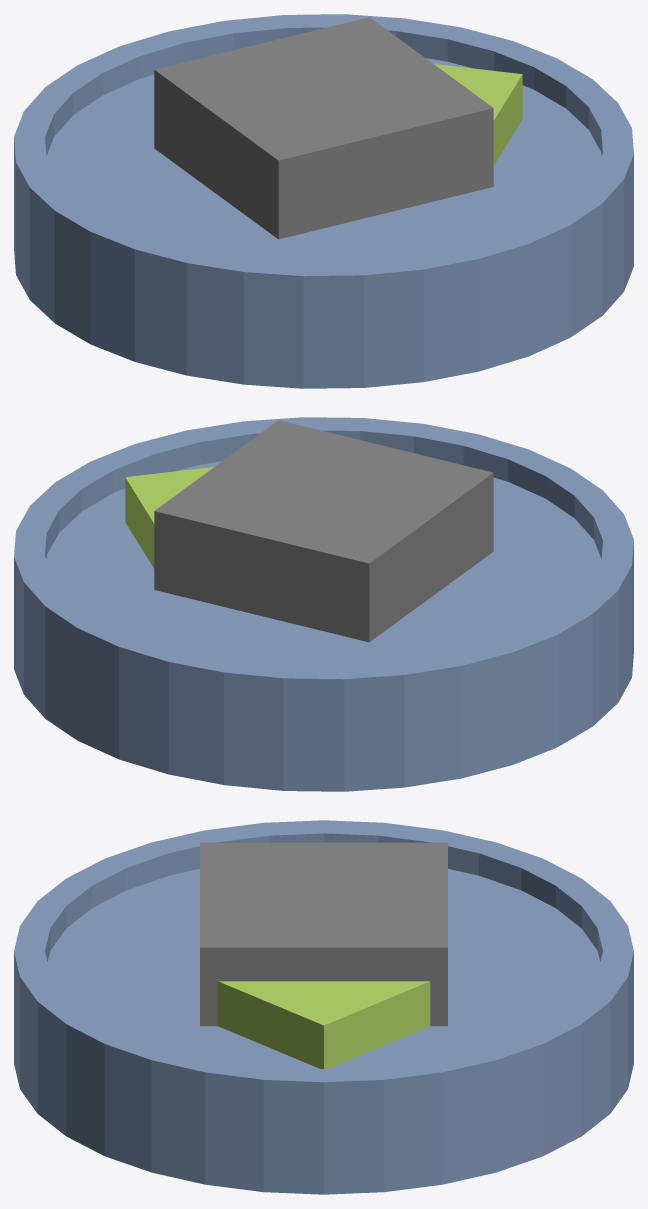
The model's file is chassis.dae.
The picture shows the model from 3 angles, top to bottom: view 1: azimuth 30°, elevation 25°; view 2: azimuth 150°, elevation 25°; view 3: azimuth 270°, elevation 25°; orthographic projection.
Parts seen in each view (by area): view 1: base, Cube, Cube_001; view 2: base, Cube, Cube_001; view 3: base, Cube, Cube_001.
Boxes of the visible parts, x1,y1,x2,y2 form: base: (14, 14, 633, 388); Cube: (154, 17, 493, 239); Cube_001: (434, 64, 522, 165); base: (14, 417, 633, 791); Cube: (154, 420, 493, 642); Cube_001: (125, 467, 213, 568); base: (14, 820, 633, 1194); Cube: (200, 842, 447, 1026); Cube_001: (217, 981, 430, 1069).
Bounding box in the file's own units: 1 × 1 × 0.4.
